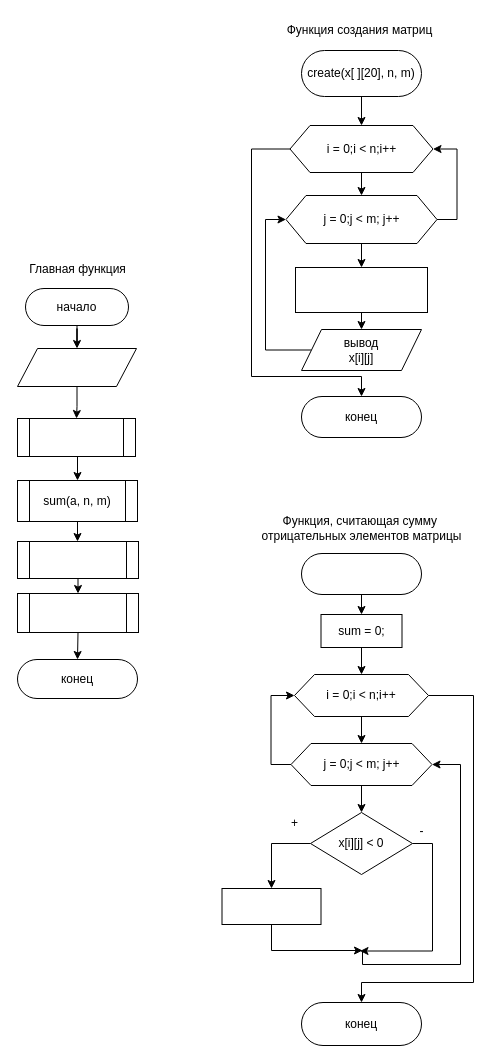
Some shapes in this 499 by 1063 pixel diagram are drawn without their labels. Each missing label, with the box of its shape:
create(a, n, m): (16, 418, 136, 456)
create(b, m, n): (16, 540, 138, 578)
sum += x[i][j]: (221, 888, 321, 924)
sum(b, m, n): (16, 592, 138, 632)
sum(x[ ][20], n, m): (300, 552, 422, 594)
x[i][j] = rand() % 11 - 5;: (294, 266, 428, 312)
ввод n,m: (16, 348, 136, 386)
